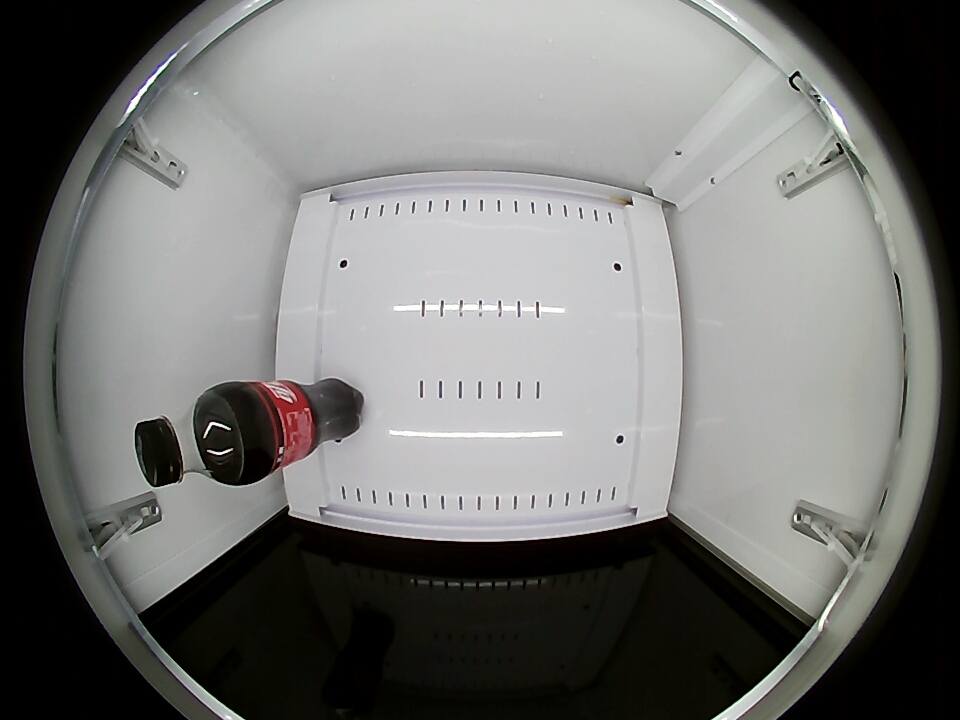lingdukele-b: (135, 391, 242, 488)
